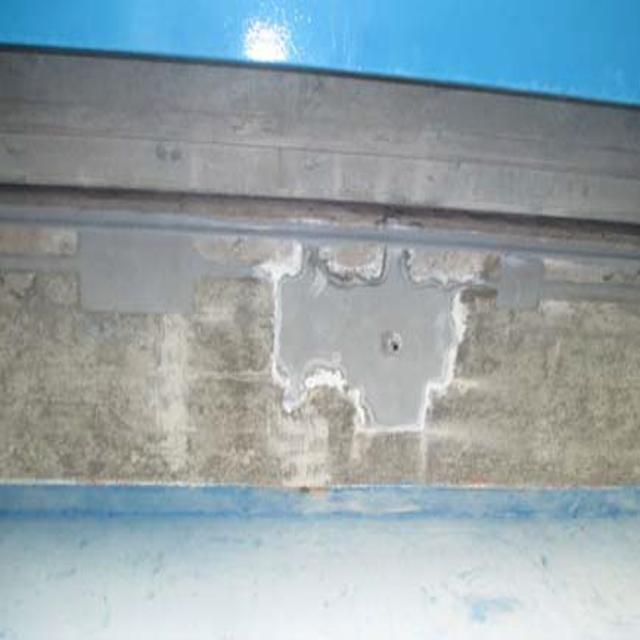freelime: (267, 245, 520, 504)
